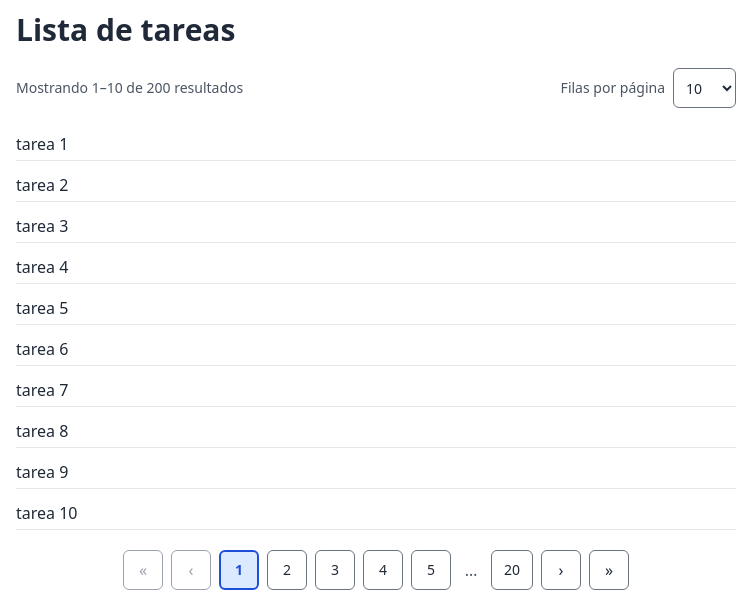
navegación › Última salta al final y Primera vuelve al principio
Step 1. Click the button named "Última página" → x=609, y=570, box [589, 550, 629, 590]
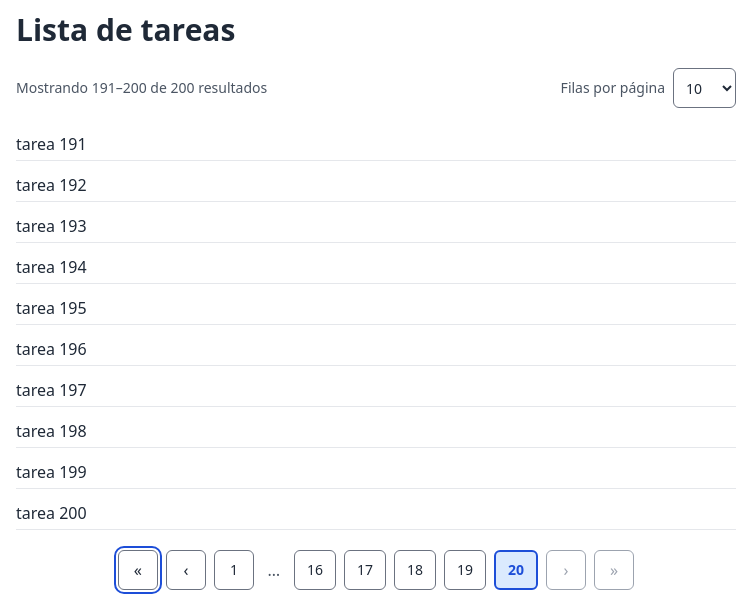
Now the text "Mostrando 191–200 de 200 resultados" is shown, box [16, 78, 267, 98]
Step 2. Click the button named "Primera página" → x=138, y=570, box [118, 550, 158, 590]
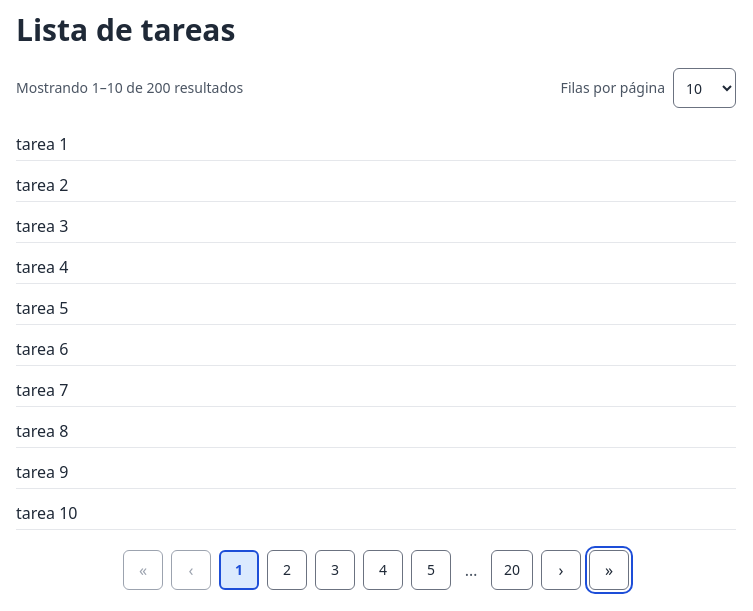
Now the text "Mostrando 1–10 de 200 resultados" is shown, box [16, 78, 243, 98]
